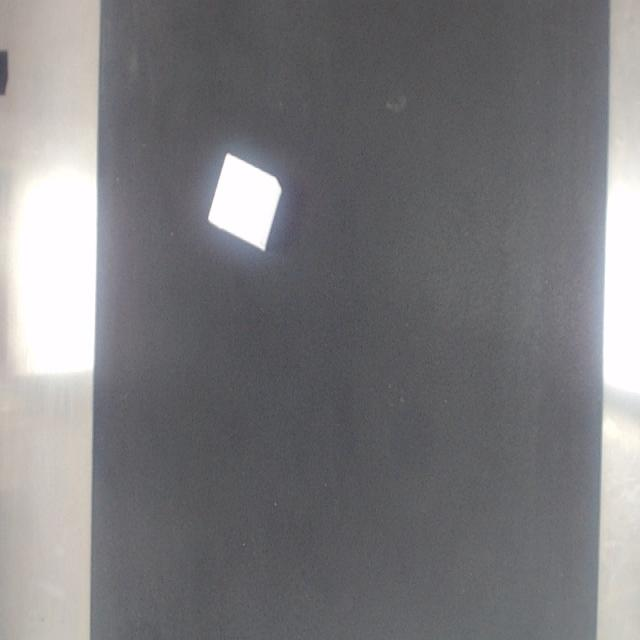Blanco: (208, 153, 281, 251)
